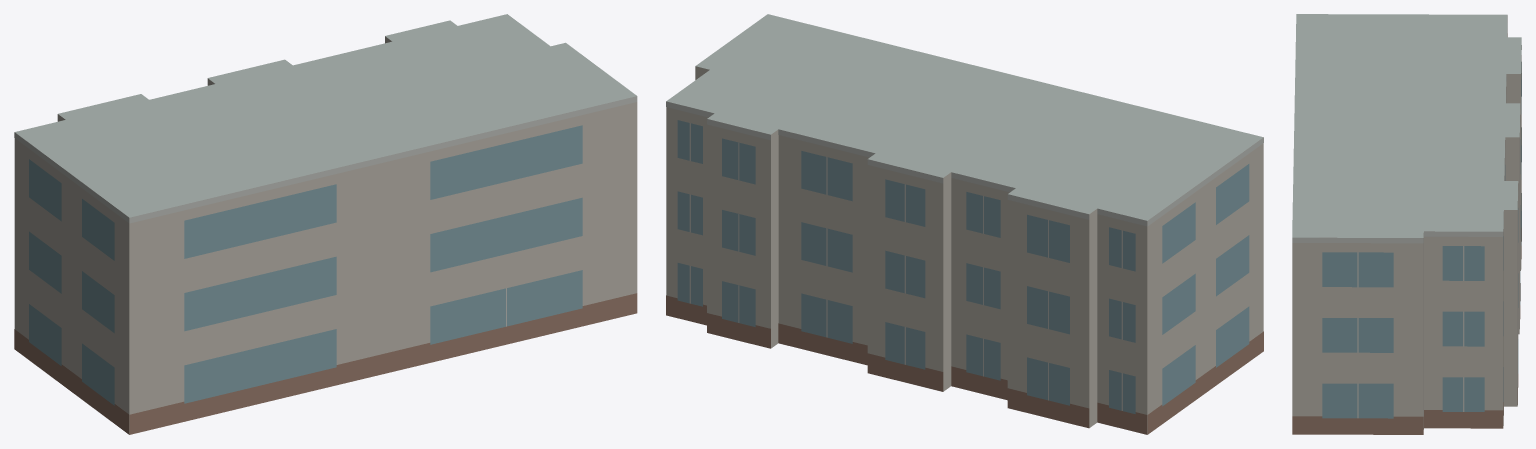
The model's file is survey-upis-32765815.glb.
3 renders of one model, left to right at view 1: azimuth 30°, elevation 25°; view 2: azimuth 150°, elevation 25°; view 3: azimuth 270°, elevation 25°, orthographic. The views are drawn at different scales.
Parts seen in each view (by area): view 1: survey-upis-32765815.tmp; view 2: survey-upis-32765815.tmp; view 3: survey-upis-32765815.tmp.
Boxes of the visible parts, x1=… form: survey-upis-32765815.tmp: x1=14, y1=14, x2=637, y2=434; survey-upis-32765815.tmp: x1=666, y1=14, x2=1263, y2=434; survey-upis-32765815.tmp: x1=1292, y1=14, x2=1521, y2=434.
Bounding box in the file's own units: 22.35 × 9.15 × 9.69.
